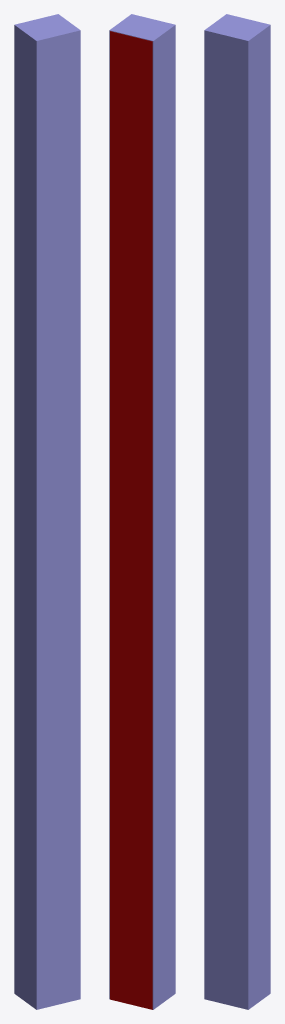
The model's file is SciFi_walkway_02_rail_post.DAE.
3 views of the same model, side by side, from view 1: azimuth 30°, elevation 25°; view 2: azimuth 150°, elevation 25°; view 3: azimuth 330°, elevation 25° (orthographic).
Visible parts, largest first — view 1: bounds; view 2: colbox-01, bounds; view 3: bounds.
Part boxes in pixels (<box>): bounds: <box>14,14,80,1009</box>; colbox-01: <box>110,31,152,1009</box>; bounds: <box>109,14,175,1009</box>; bounds: <box>204,14,270,1009</box>.
Bounding box in the file's own units: 31.68 × 27.96 × 665.
